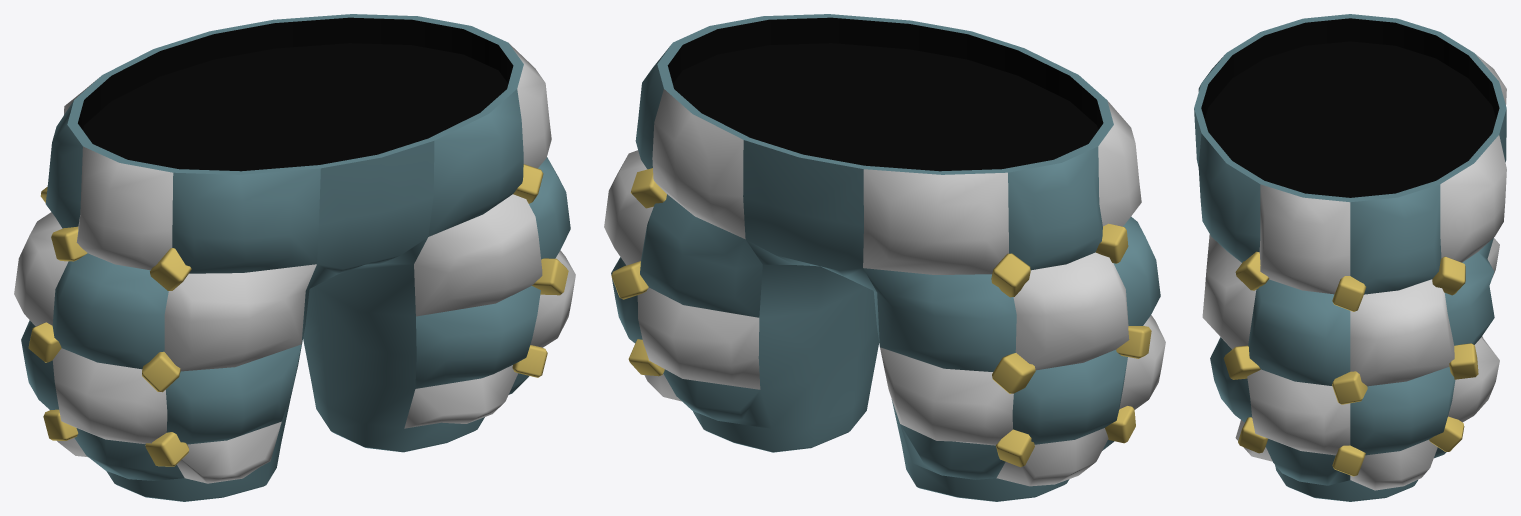
Rendered from Admirals_Pants_Mesh.fbx.
3 views of the same model, side by side, from view 1: azimuth 30°, elevation 25°; view 2: azimuth 150°, elevation 25°; view 3: azimuth 270°, elevation 25° (orthographic). The views are drawn at different scales.
Visible parts, largest first — view 1: Admirals_Pants1; view 2: Admirals_Pants1; view 3: Admirals_Pants1.
Part boxes in pixels (x1,y1,x2,y2): Admirals_Pants1: (14,14,575,501); Admirals_Pants1: (604,14,1165,501); Admirals_Pants1: (1194,14,1506,501).
Bounding box in the file's own units: 33.87 × 21.45 × 19.32.
